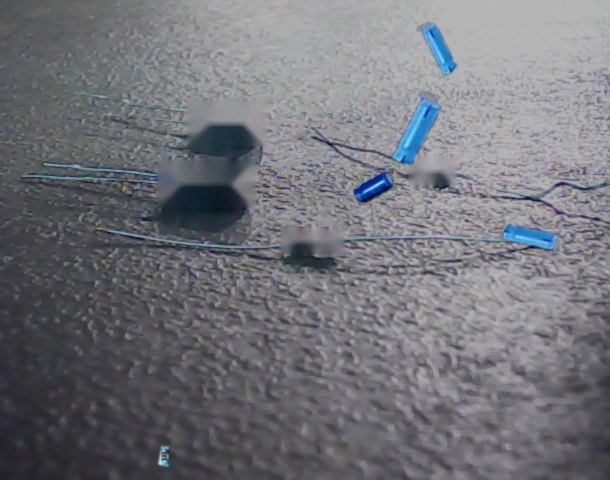capacitor: (391, 92, 440, 166), (417, 23, 457, 76), (502, 224, 559, 254), (353, 171, 394, 203)
resistor: (158, 446, 171, 466)
